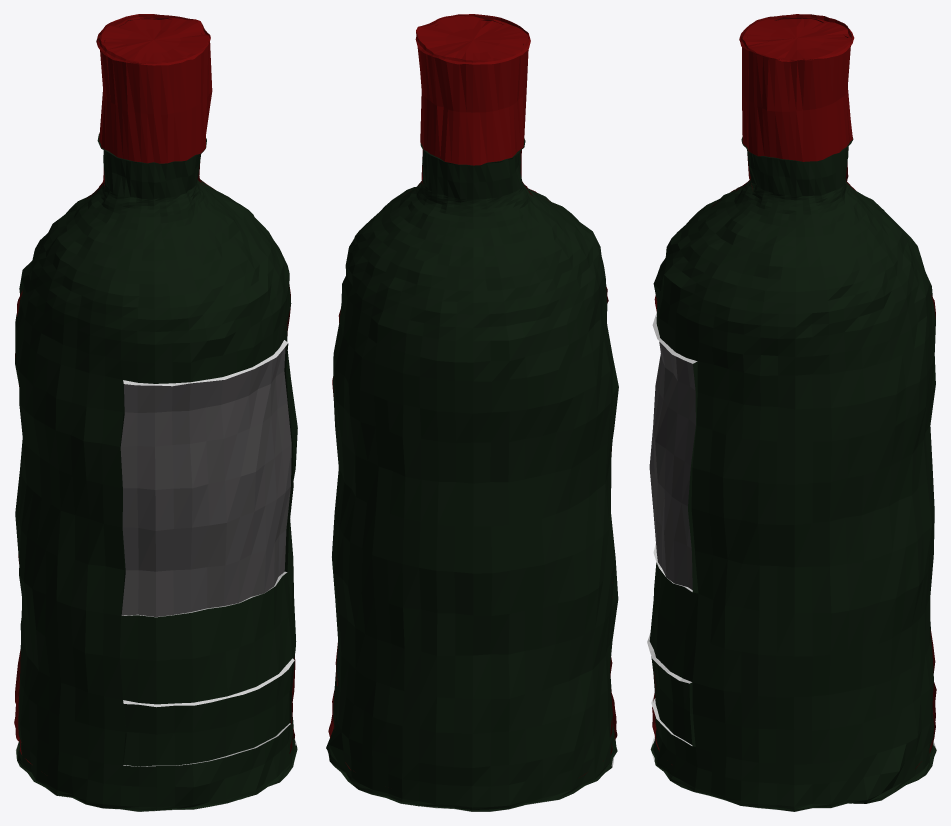
Rendered from crush_medium_0.obj.
3 views of the same model, side by side, from view 1: azimuth 30°, elevation 25°; view 2: azimuth 150°, elevation 25°; view 3: azimuth 270°, elevation 25° (orthographic).
Parts seen in each view (by area): view 1: model; view 2: model; view 3: model.
Part boxes in pixels (x1,y1,x2,y2): model: (14,14,297,811); model: (326,14,618,811); model: (647,14,936,811).
Size of the model in its own units: 0.066 by 0.1816 by 0.0664.
1 material, 1 textured.
